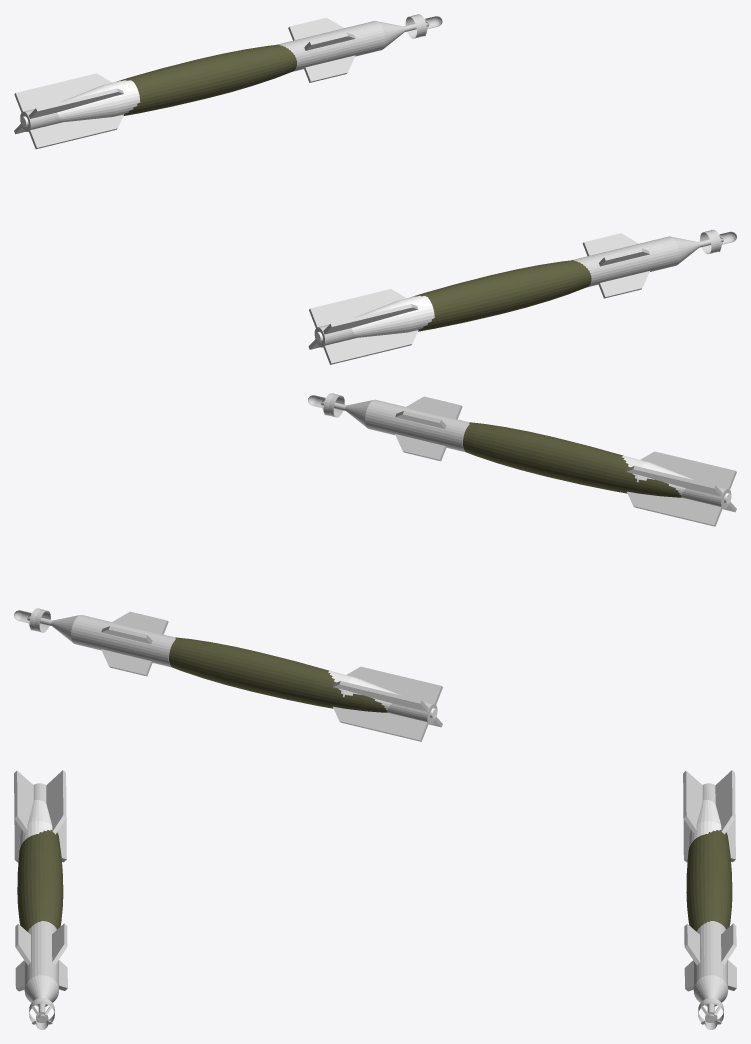
File: f5fgbu1224.glb
3 renders of one model, top to bottom at view 1: azimuth 30°, elevation 25°; view 2: azimuth 150°, elevation 25°; view 3: azimuth 270°, elevation 25°, orthographic. The views are drawn at different scales.
Visible parts, largest first — view 1: 円柱.003, 円柱.004; view 2: 円柱.003, 円柱.004; view 3: 円柱.004, 円柱.003.
Boxes of the visible parts, left/top/right/bottom form: 円柱.003: left=308, top=229, right=736, bottom=364; 円柱.004: left=14, top=14, right=442, bottom=149; 円柱.003: left=308, top=393, right=736, bottom=526; 円柱.004: left=14, top=608, right=442, bottom=741; 円柱.004: left=683, top=770, right=736, bottom=1029; 円柱.003: left=14, top=770, right=67, bottom=1029.
Bounding box in the file's own units: 3.69 × 0.3609 × 4.84.
Materials: 2 (1 with a texture image).
